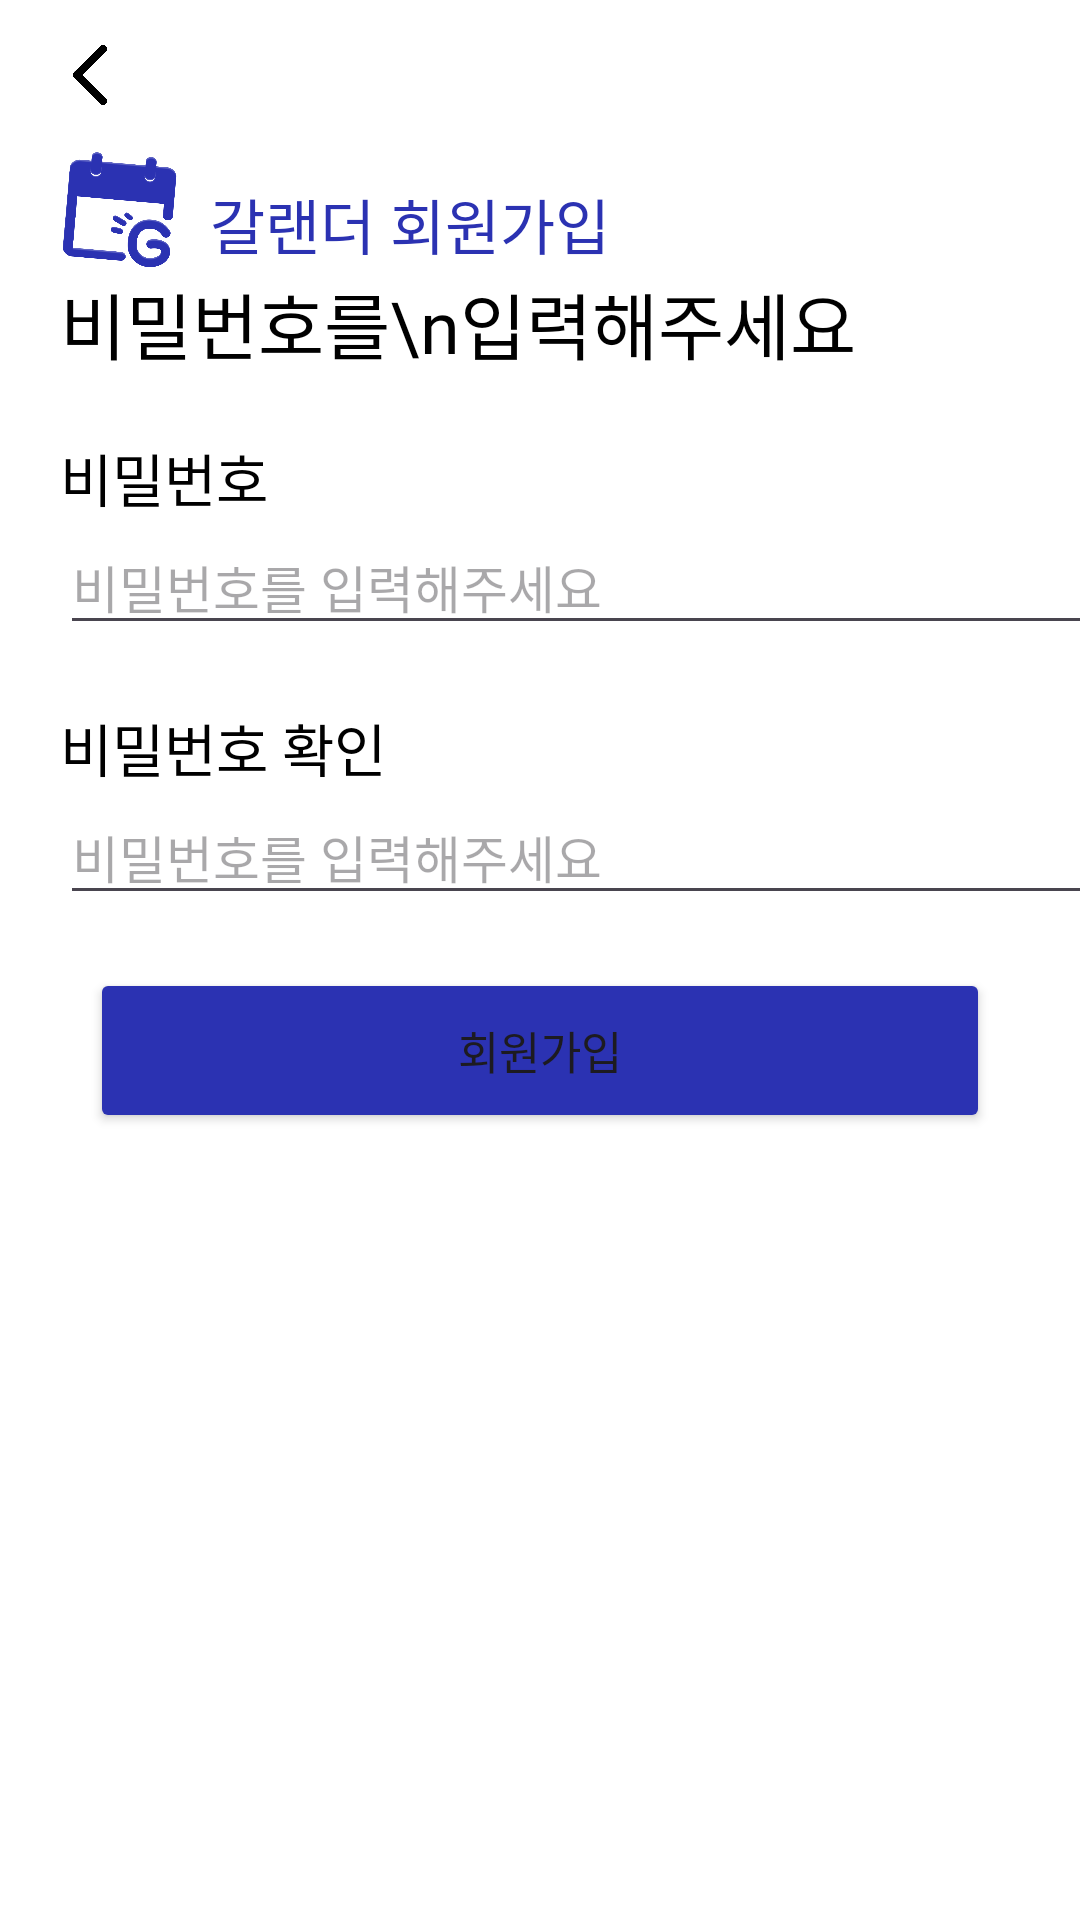

Point at icon controls on the screen. Image size 1080*1920, points as [x,y].
back: [90,75]
